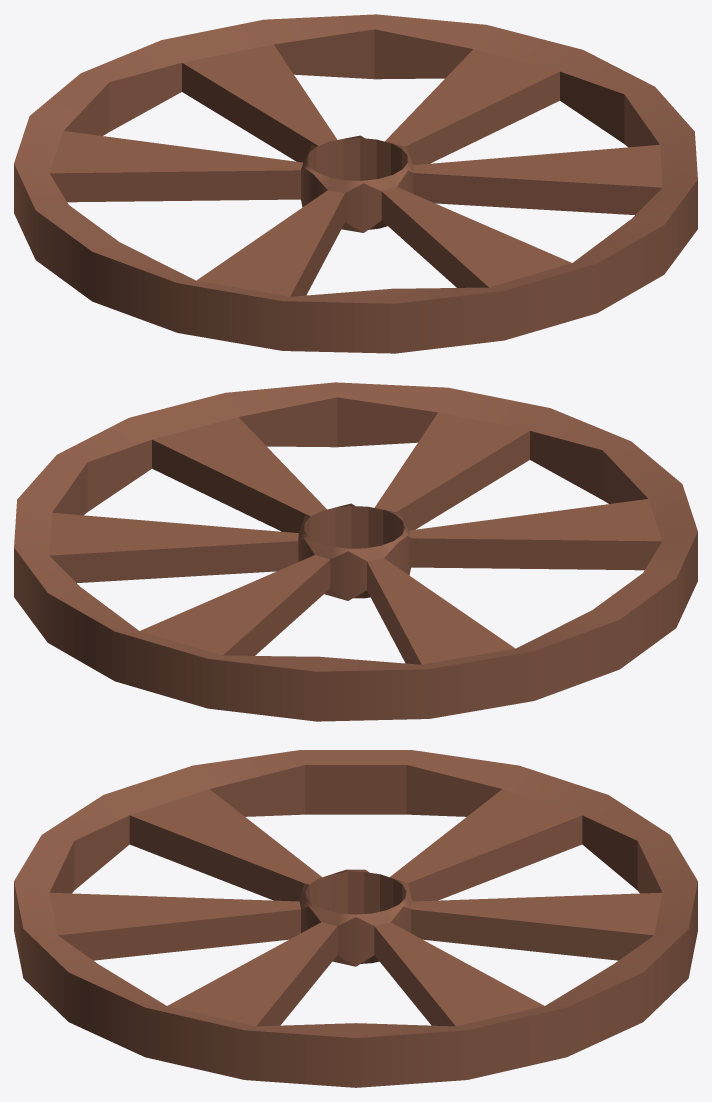
The model's file is Low Poly Wheel 1.fbx.
The picture shows the model from 3 angles, top to bottom: view 1: azimuth 30°, elevation 25°; view 2: azimuth 150°, elevation 25°; view 3: azimuth 270°, elevation 25°; orthographic projection.
Parts seen in each view (by area): view 1: pCylinder3; view 2: pCylinder3; view 3: pCylinder3.
Part boxes in pixels (left/top/right/bottom): pCylinder3: left=14, top=14, right=697, bottom=353; pCylinder3: left=14, top=382, right=697, bottom=721; pCylinder3: left=14, top=750, right=697, bottom=1087.
Size of the model in its own units: 5.45 by 0.4391 by 5.47.
